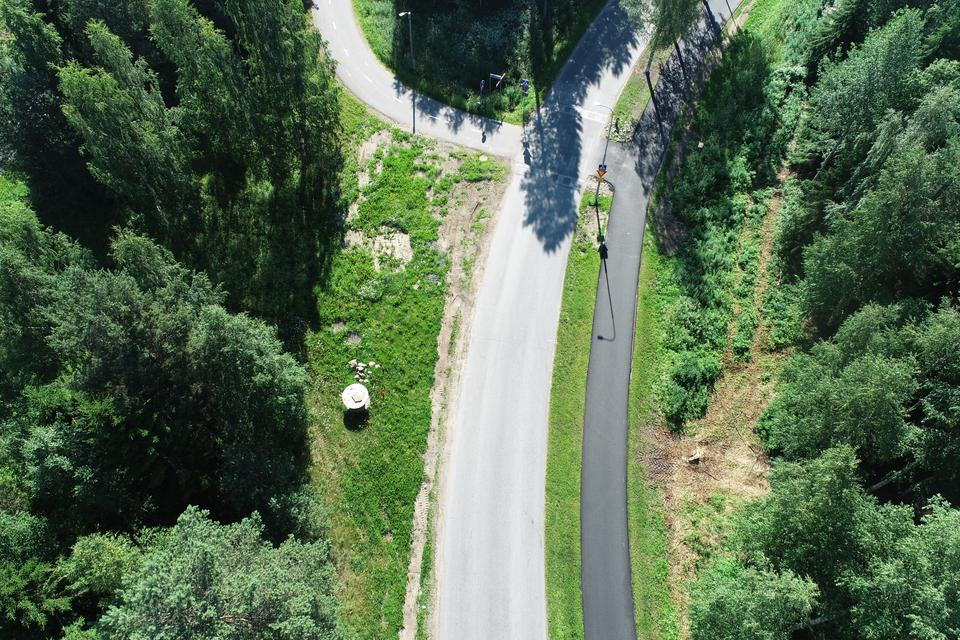intersection: (445, 85, 710, 233)
